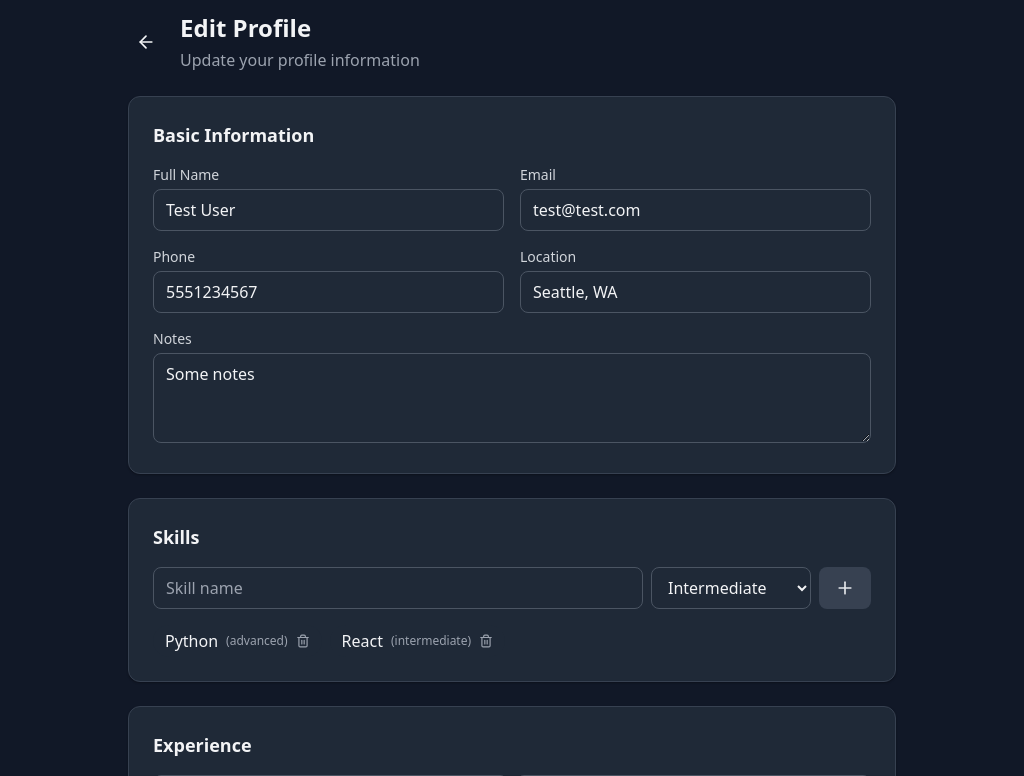
Scenario: ProfileFormPage - Skills Management › can add a new skill
This screenshot has width=1024, height=776.
Type "TypeScript" into the field with placeholder "Skill name" at (398, 588), box left=153, top=567, right=643, bottom=609
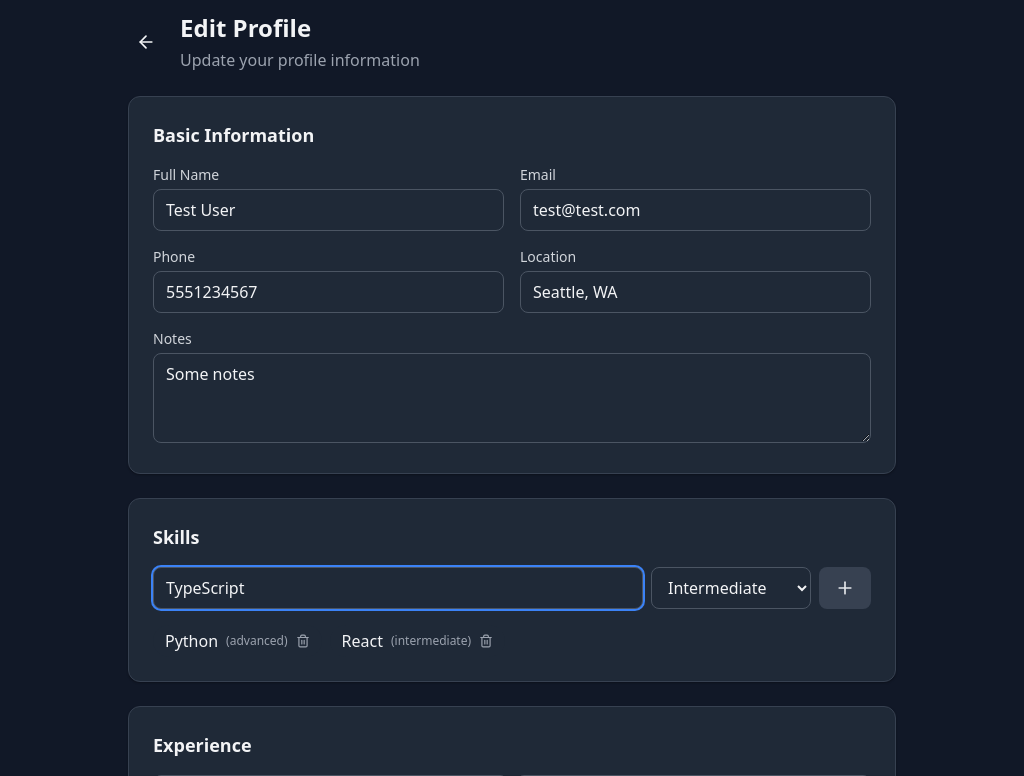
// Find the add button (the one with Plus icon in the skills row)
Click the 2nd button at (845, 588), box left=819, top=567, right=871, bottom=609
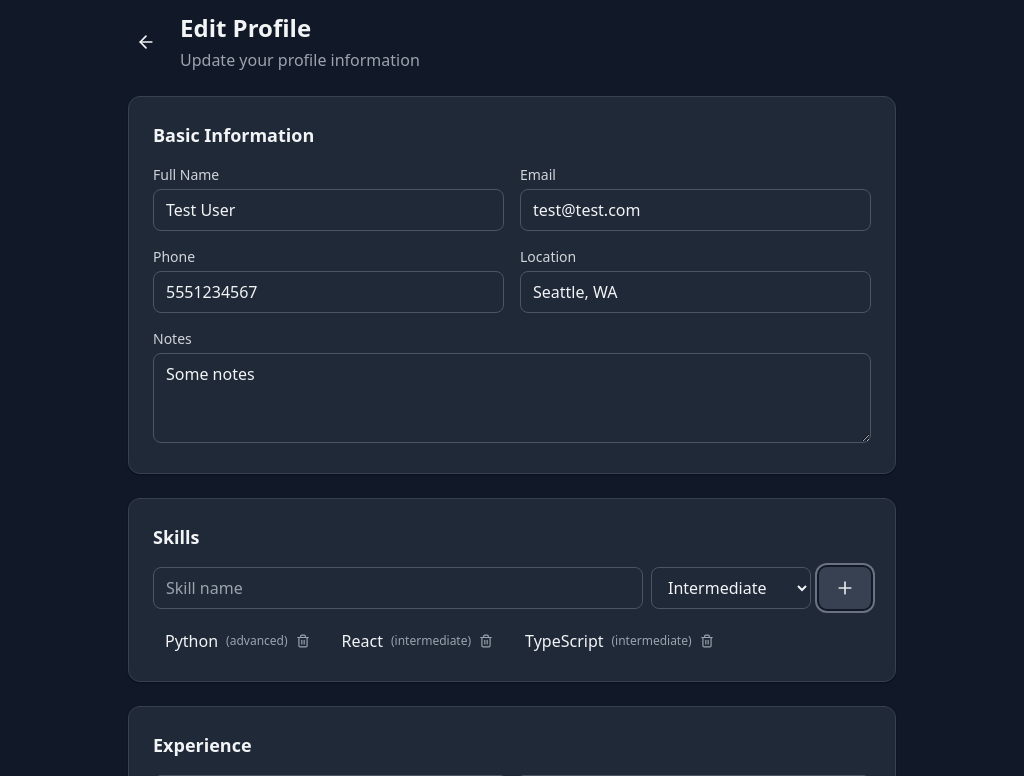
Now the text "TypeScript" is shown, box left=525, top=629, right=604, bottom=653
